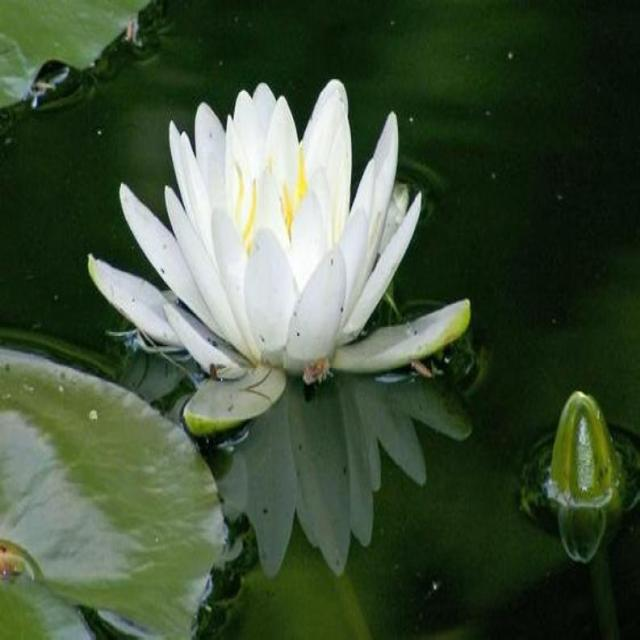water-lily: (56, 66, 472, 424)
